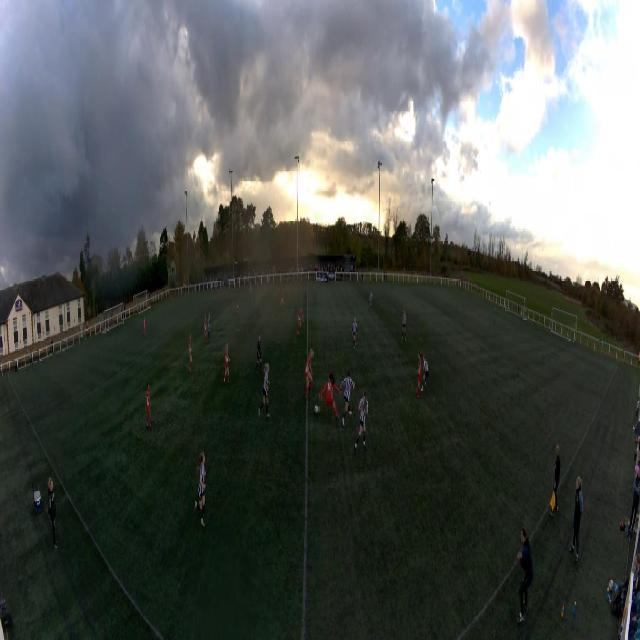ball: (314, 406, 320, 414)
player: (191, 452, 207, 528), (354, 390, 368, 452), (323, 366, 338, 422), (340, 373, 356, 421), (260, 361, 271, 417), (304, 346, 314, 402), (145, 382, 152, 428), (223, 343, 230, 385), (416, 352, 422, 397), (256, 335, 262, 373), (422, 355, 429, 387), (297, 308, 304, 336), (351, 318, 357, 350), (189, 334, 193, 374), (402, 309, 407, 340), (204, 314, 208, 345), (368, 290, 373, 312), (207, 313, 211, 339), (280, 290, 285, 310), (235, 300, 240, 319), (143, 317, 146, 337), (493, 306, 496, 325), (250, 285, 252, 303)
